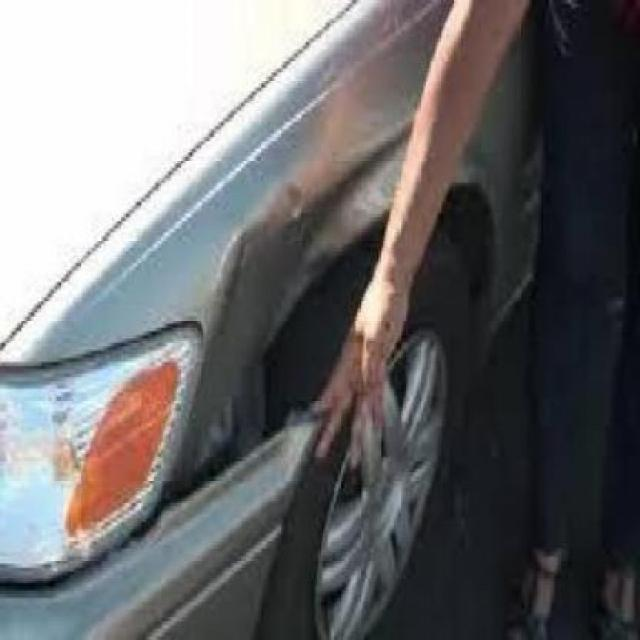damage: (157, 121, 407, 553)
